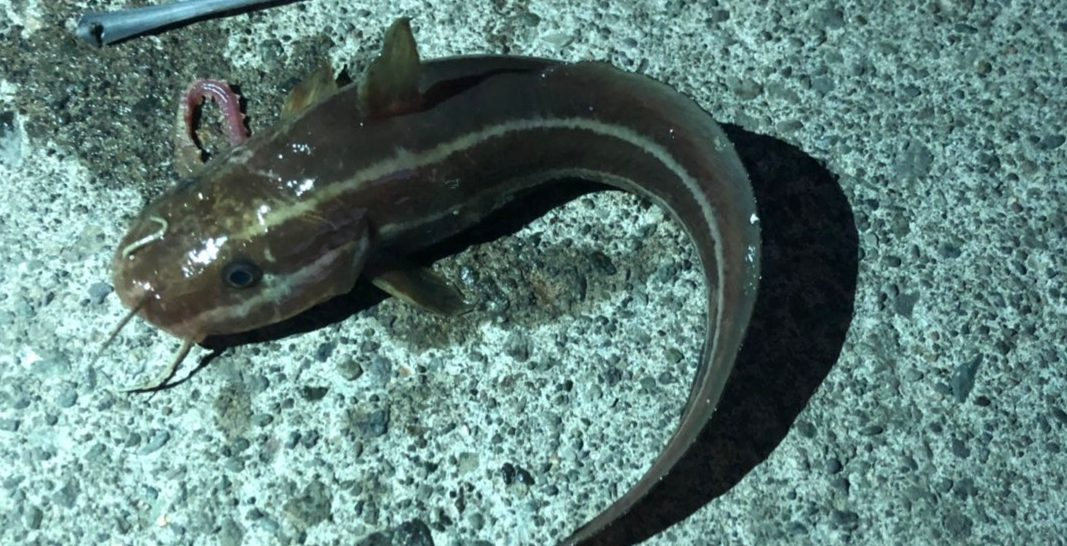gonzui: (92, 24, 839, 538)
